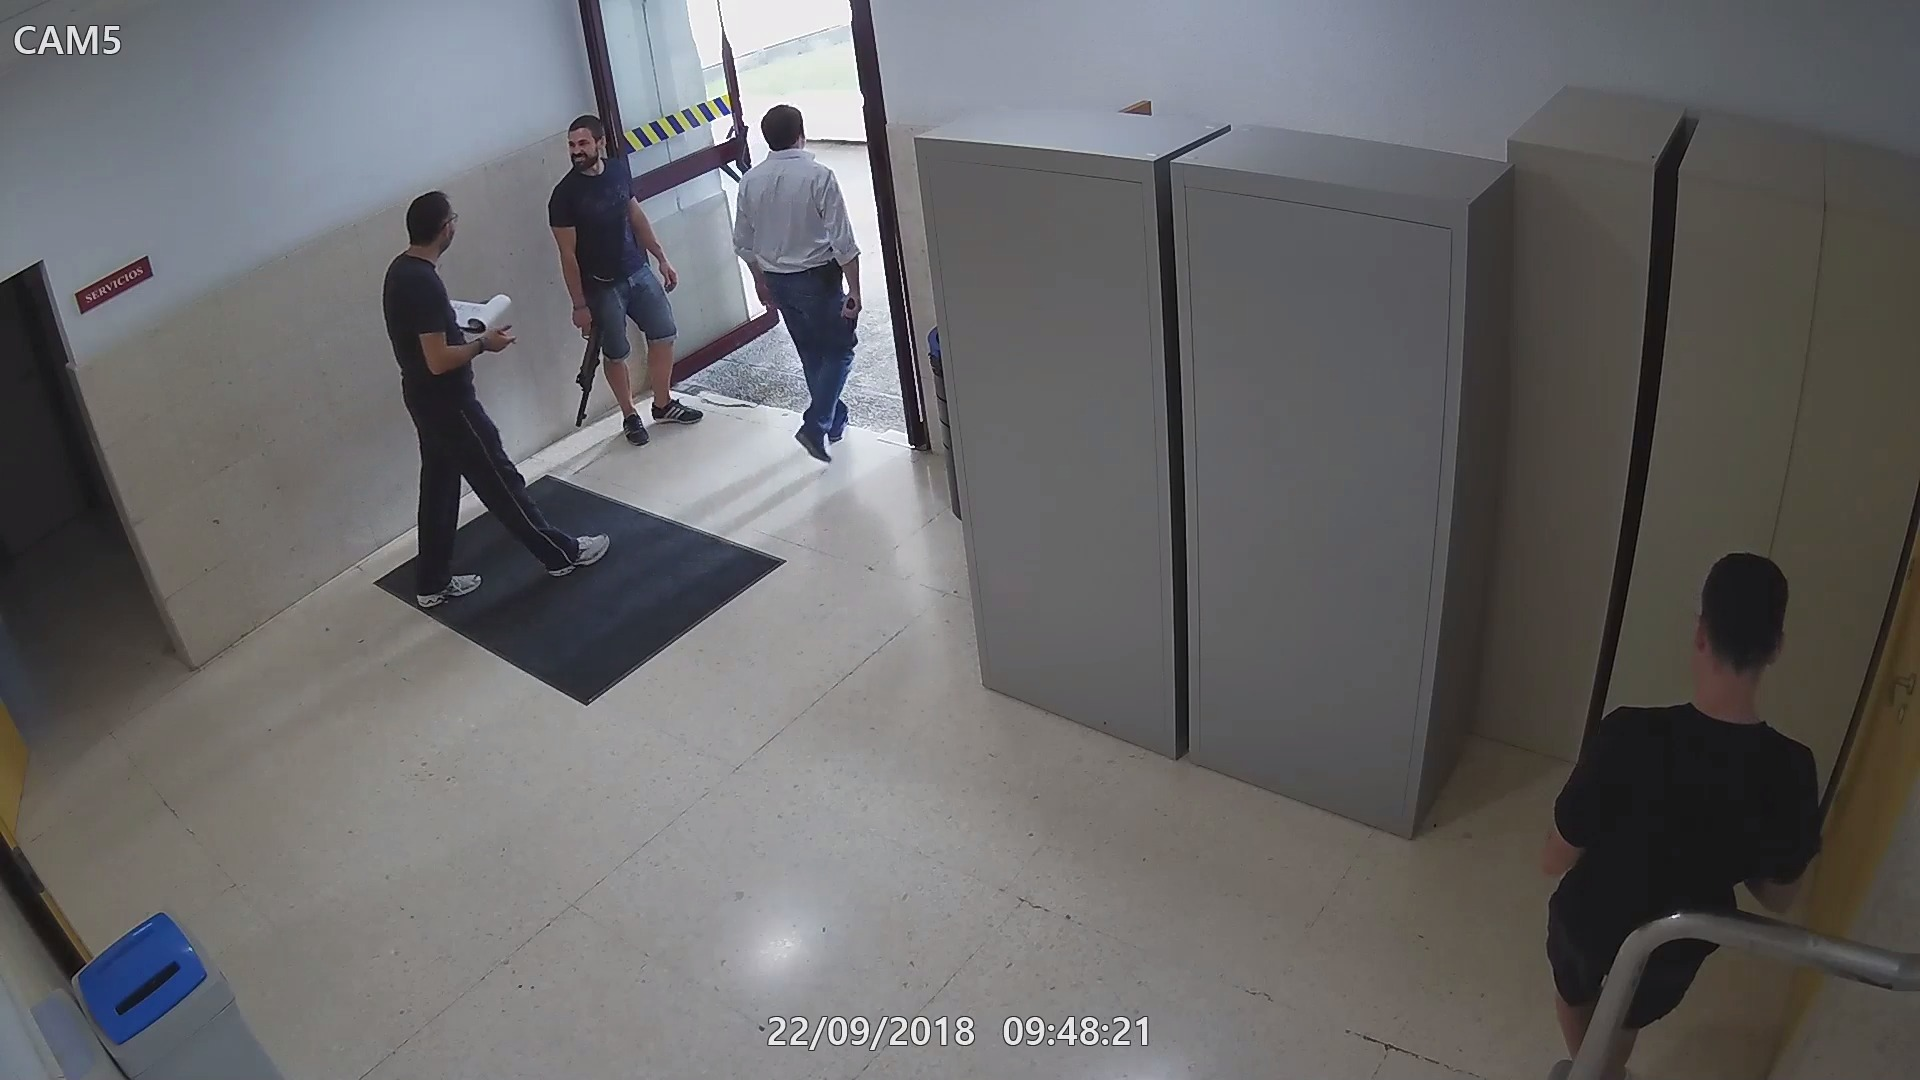Handgun: (837, 291, 866, 339)
Short_rifle: (571, 302, 605, 430)
